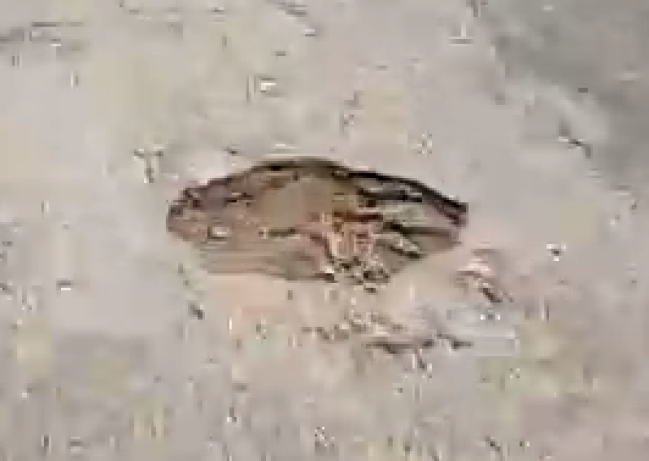Berlubang: (143, 146, 485, 292)
